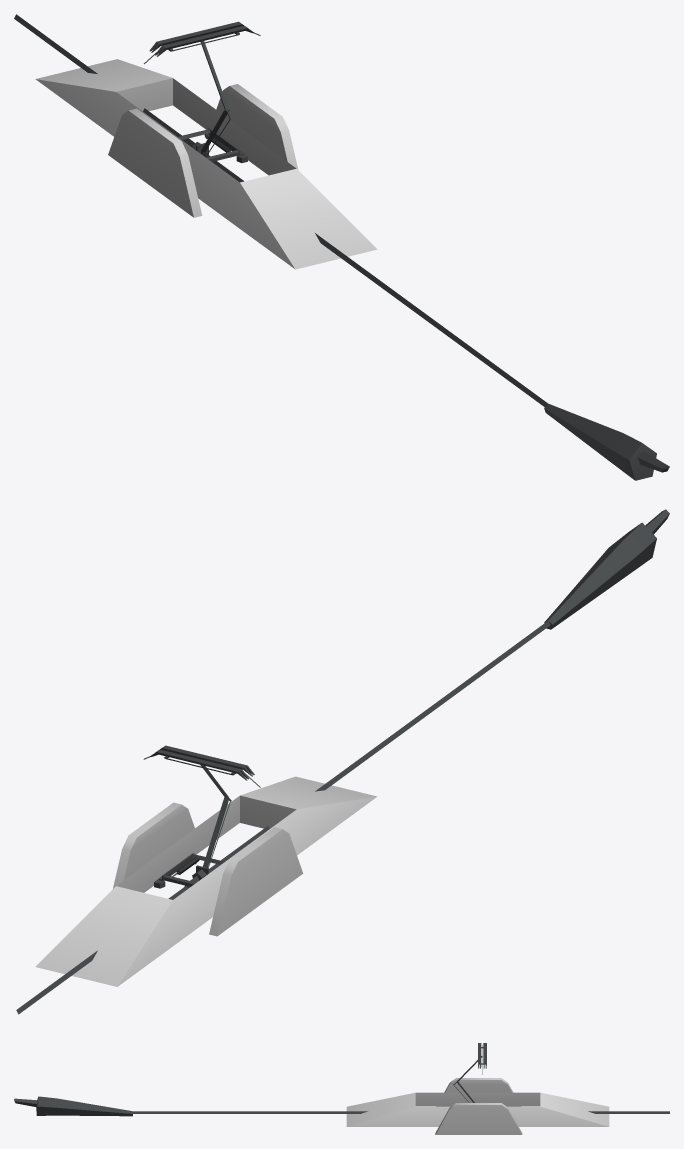
File: S300_BOJ_03.glb
3 views of the same model, one above another, from view 1: azimuth 30°, elevation 25°; view 2: azimuth 150°, elevation 25°; view 3: azimuth 270°, elevation 25° (orthographic). The views are drawn at different scales.
Visible parts, largest first — view 1: PANTA; view 2: PANTA; view 3: PANTA.
Boxes of the visible parts, x1=… form: PANTA: x1=14, y1=14, x2=669, y2=480; PANTA: x1=16, y1=509, x2=669, y2=1014; PANTA: x1=14, y1=1043, x2=669, y2=1134.
Bounding box in the file's own units: 4.48 × 4.96 × 43.14.
Materials: 2 (2 with a texture image).
